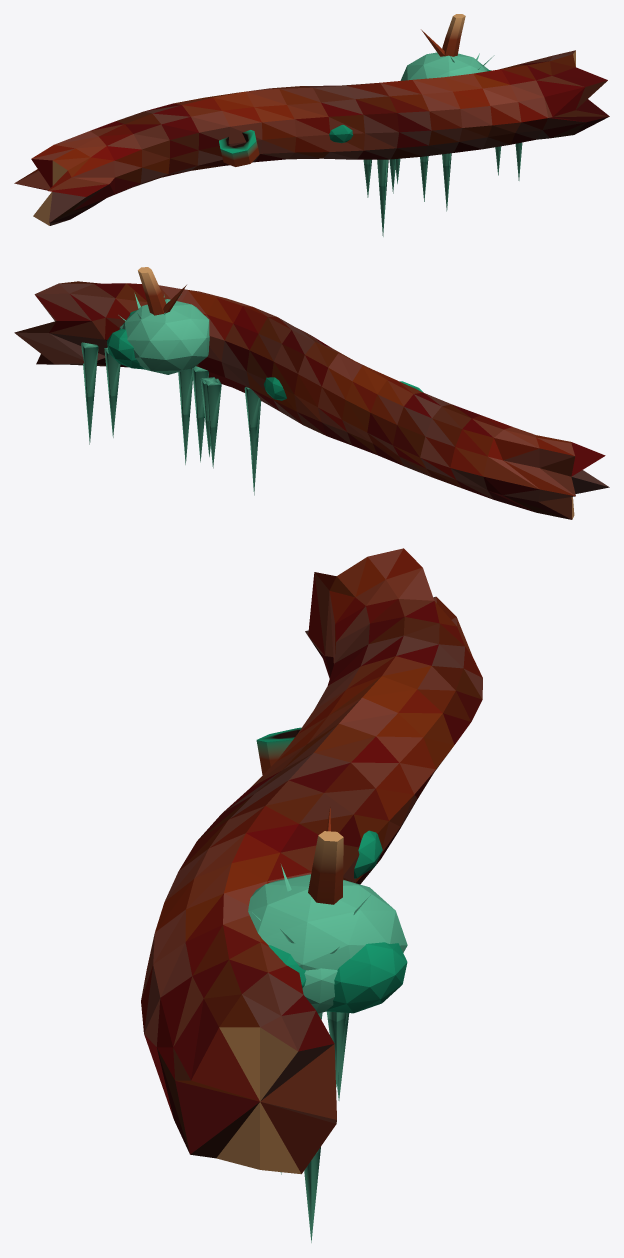
File: pohon_tumbang_bridge_redwood_270330.glb
3 views of the same model, one above another, from view 1: azimuth 30°, elevation 25°; view 2: azimuth 150°, elevation 25°; view 3: azimuth 270°, elevation 25° (orthographic). The views are drawn at different scales.
Parts seen in each view (by area): view 1: Batang_Melintang_Sungai; view 2: Batang_Melintang_Sungai; view 3: Batang_Melintang_Sungai.
Part boxes in pixels (<box>): Batang_Melintang_Sungai: <box>14,14,609,236</box>; Batang_Melintang_Sungai: <box>14,267,609,519</box>; Batang_Melintang_Sungai: <box>141,548,482,1242</box>.
Bounding box in the file's own units: 7.46 × 2.57 × 2.06.
